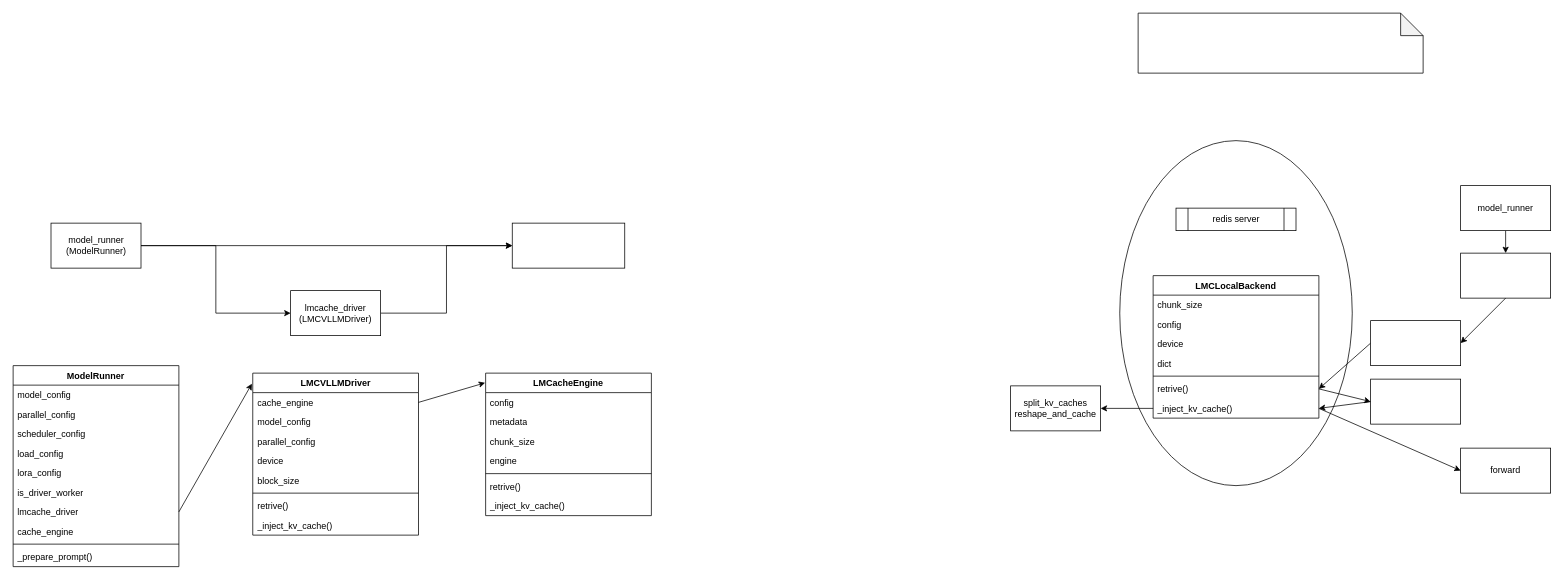
The diagram is 1564 pixels wide and 582 high, and some of its shapes have lost their labels. The shapes that lost their labels are listed below. From the top down, each one's centre as x and y in pixels, then its label:
At [1280,42]: "kv shape: [ num_layer, 2, num_tokens, num_kv_head, head_size ]".
At [568,245]: "cache_engine (LMCacheEngine)".
At [1505,275]: "_prepare_prompt".
At [1415,343]: "retirve".
At [1415,401]: "kvcaches".
